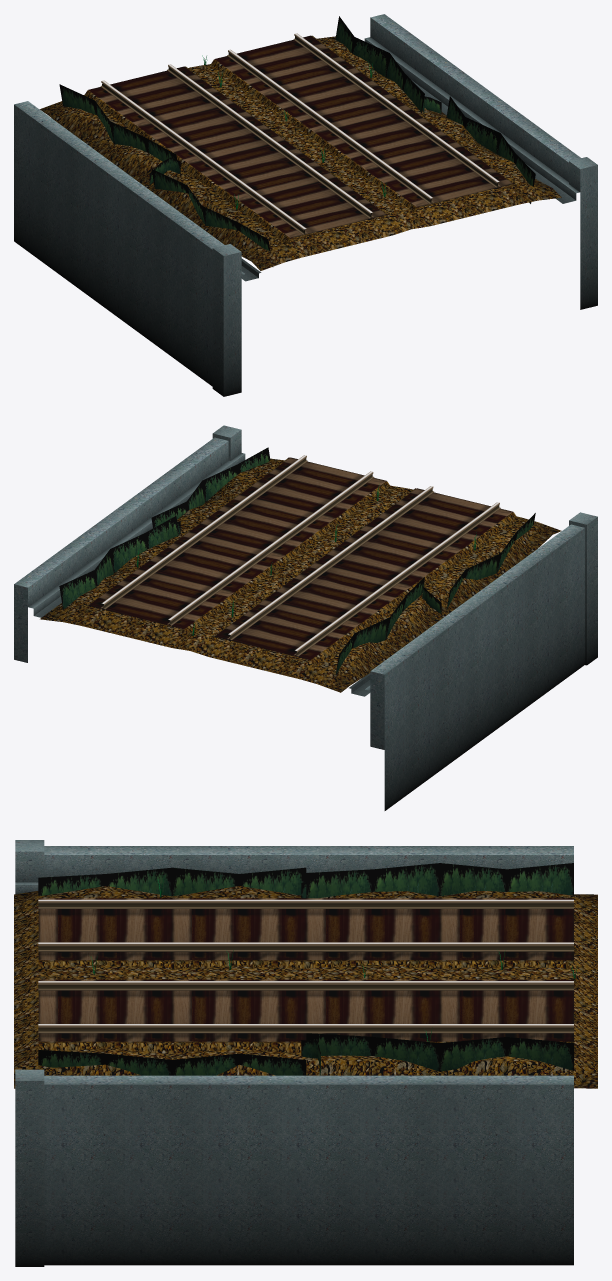
File: K_JARI_2RAIL25.glb
The picture shows the model from 3 angles, top to bottom: view 1: azimuth 30°, elevation 25°; view 2: azimuth 150°, elevation 25°; view 3: azimuth 270°, elevation 25°; orthographic projection. The views are drawn at different scales.
Visible parts, largest first — view 1: rail, last, obj4; view 2: rail, last; view 3: rail, last.
Part boxes in pixels (bbox=[...]): rail: bbox=[14, 14, 580, 386]; last: bbox=[212, 157, 597, 396]; obj4: bbox=[149, 96, 441, 184]; rail: bbox=[14, 437, 584, 810]; last: bbox=[212, 425, 597, 665]; rail: bbox=[14, 846, 597, 1265]; last: bbox=[15, 840, 44, 1266].
Bounding box in the file's own units: 26.63 × 10.11 × 27.26.
14 materials, 14 textured.
